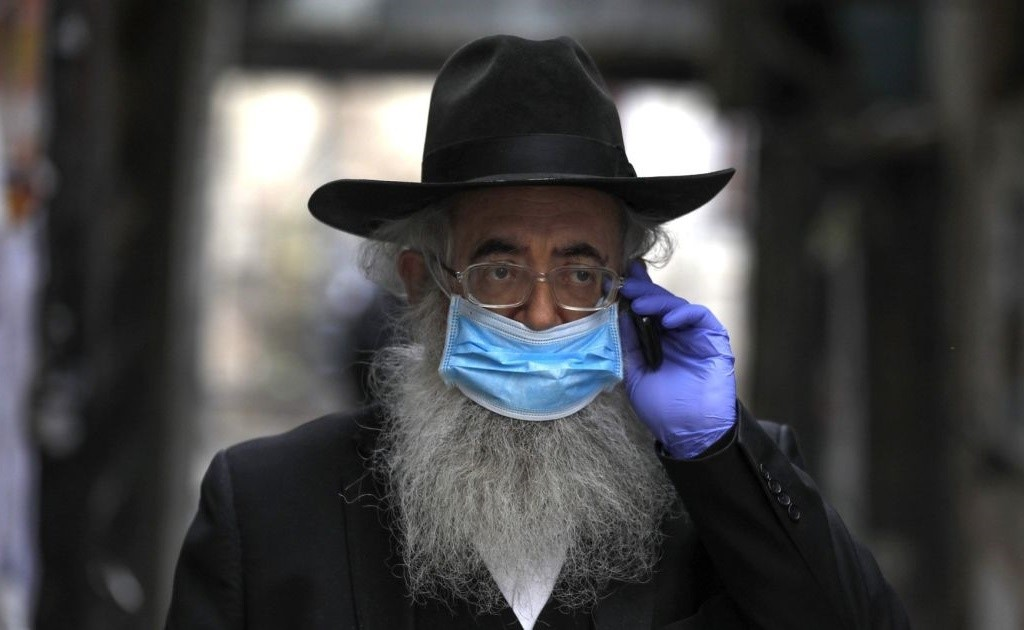face_with_mask: (401, 192, 639, 427)
